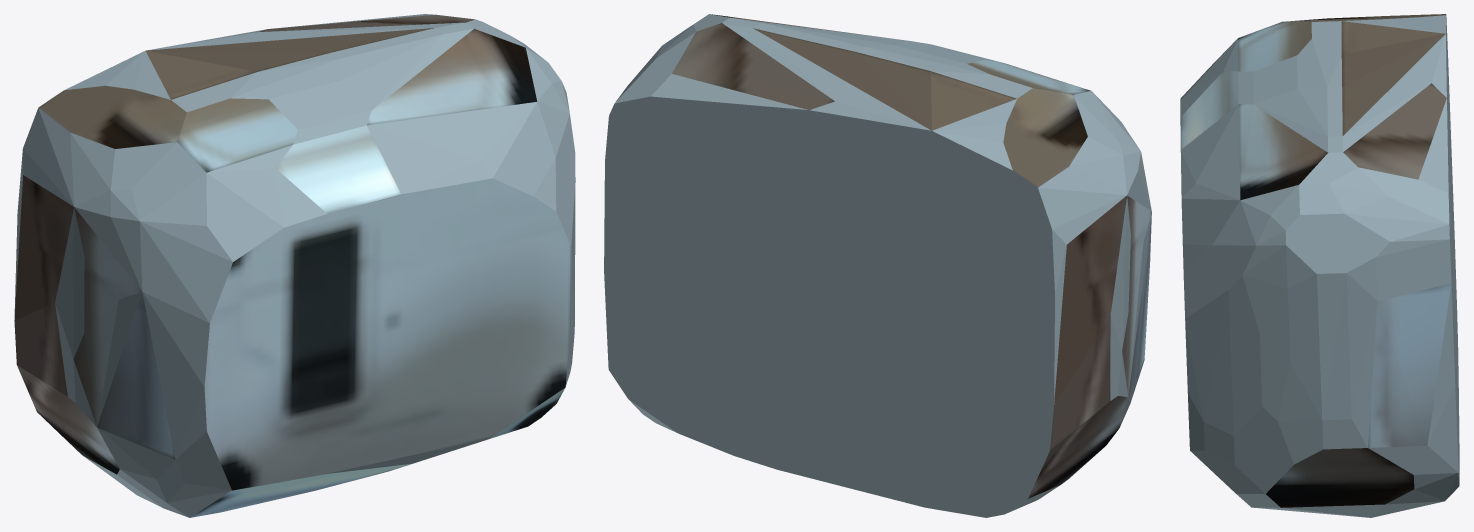
File: static_object_tex.obj
The picture shows the model from 3 angles, left to right: view 1: azimuth 30°, elevation 25°; view 2: azimuth 150°, elevation 25°; view 3: azimuth 270°, elevation 25°; orthographic projection. The views are drawn at different scales.
Size of the model in its own units: 0.0703 by 0.0553 by 0.0375.
Materials: 1 (1 with a texture image).
